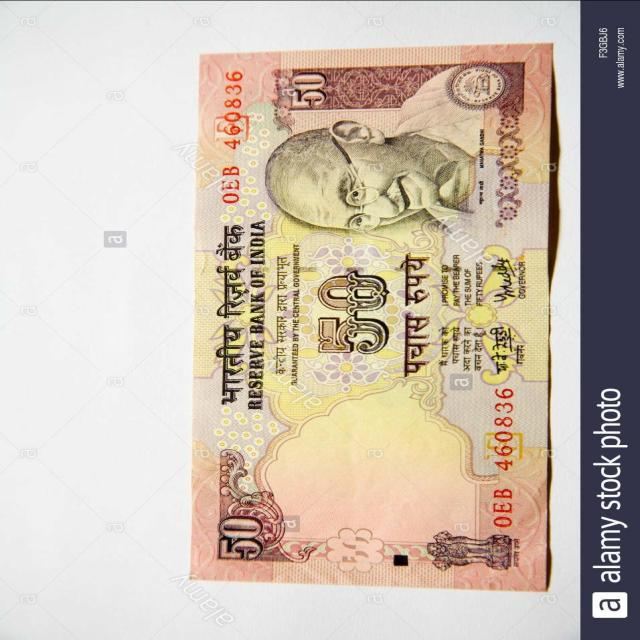50IndianRupees: (191, 44, 552, 584)
